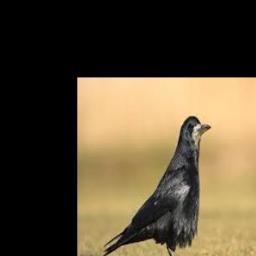Crow: (101, 115, 211, 256)
